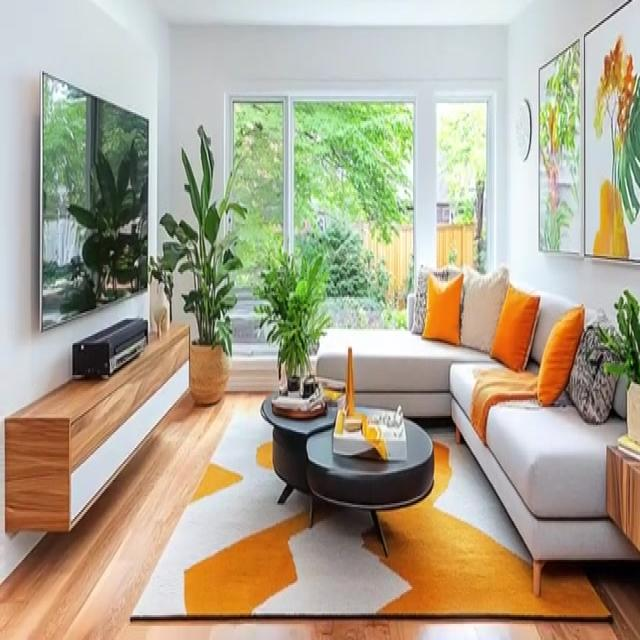obstacle: (313, 263, 636, 596), (4, 320, 190, 533), (305, 407, 434, 557), (259, 375, 346, 510)
